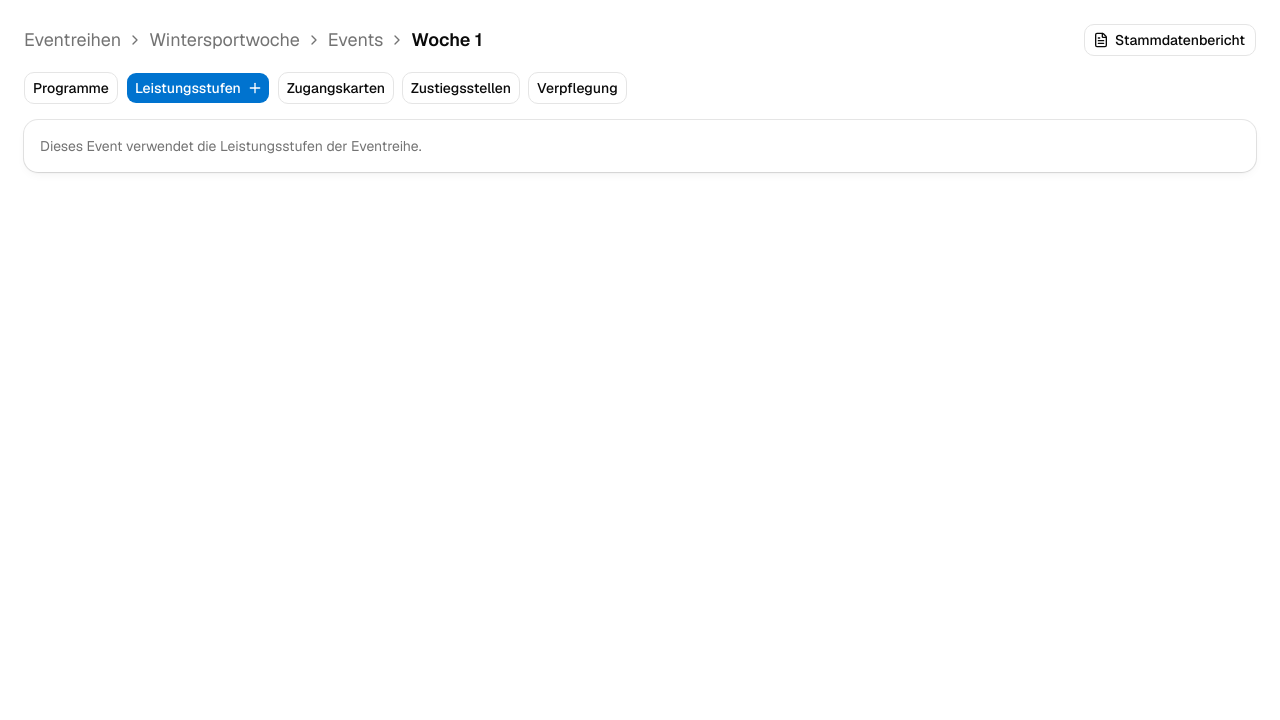
Test: MasterDataView — an event's own page (US-33) › blocks starting an event's own list once the series already has registrations
Click the button with aria-label "Leistungsstufen: Neue Leistungsstufe": {"x": 198, "y": 88} [126,72,270,104]
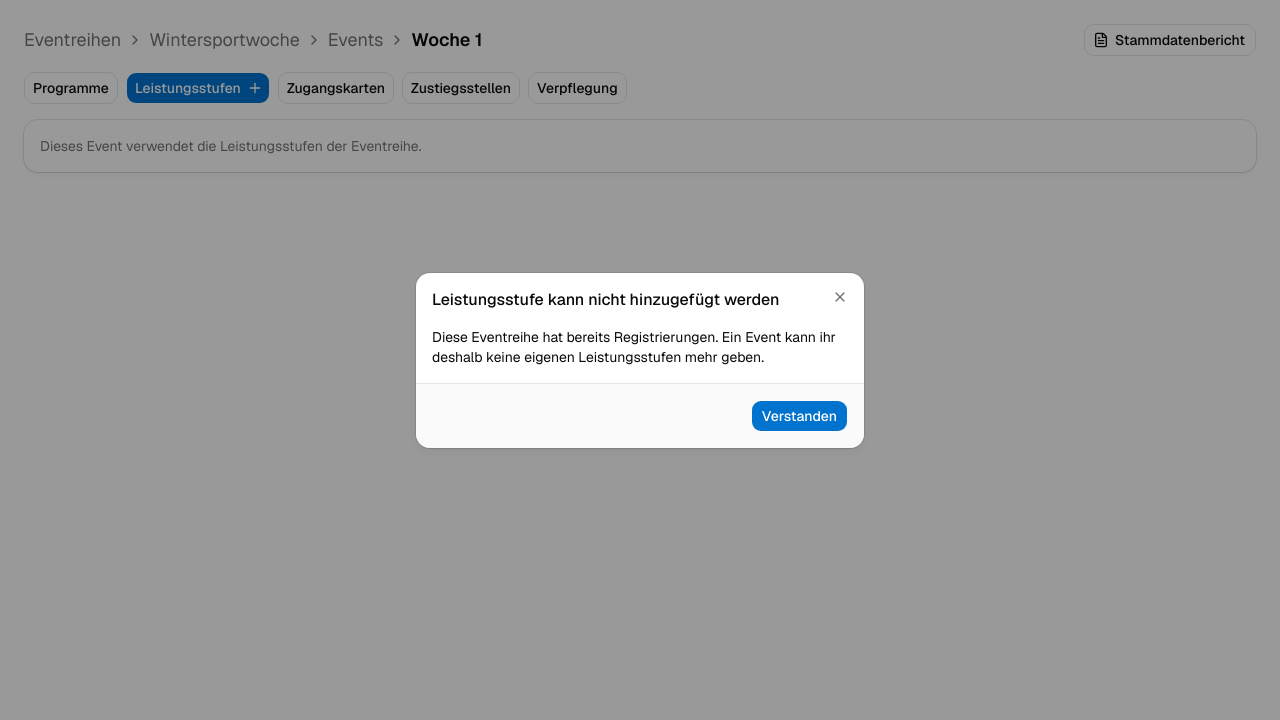
Press Enter
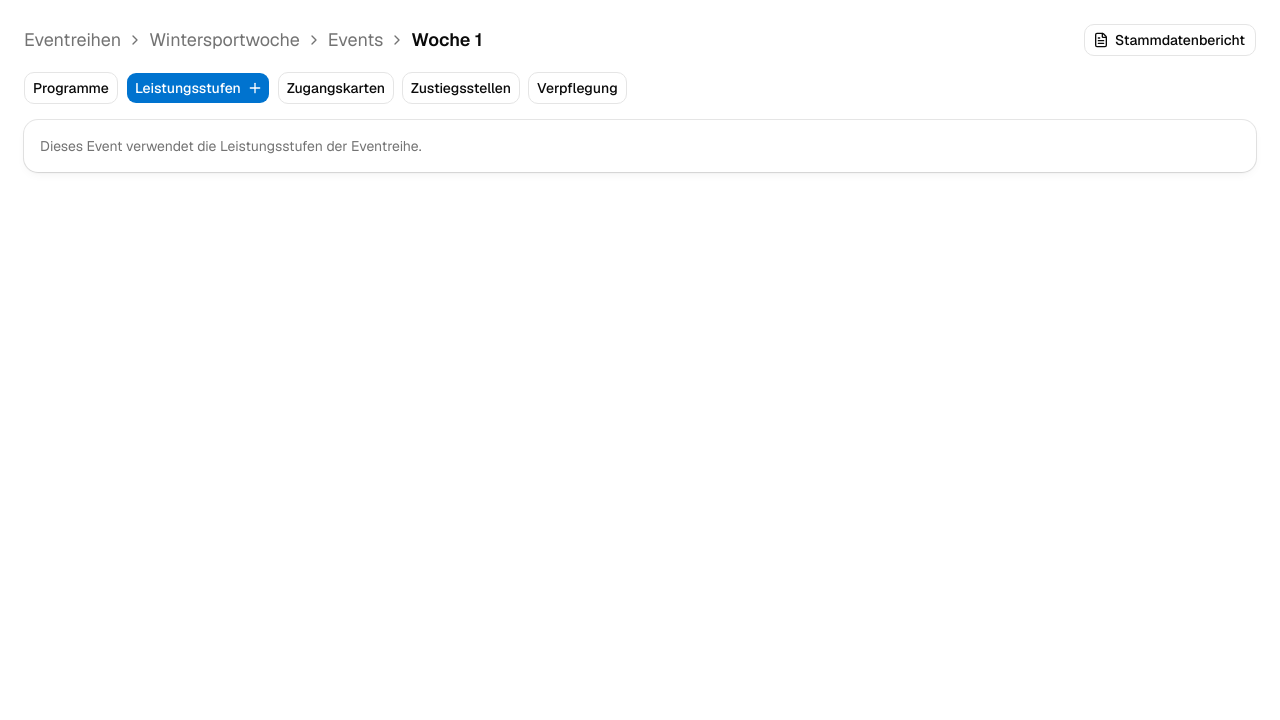
Now the heading "kann nicht hinzugefügt werden" is gone
